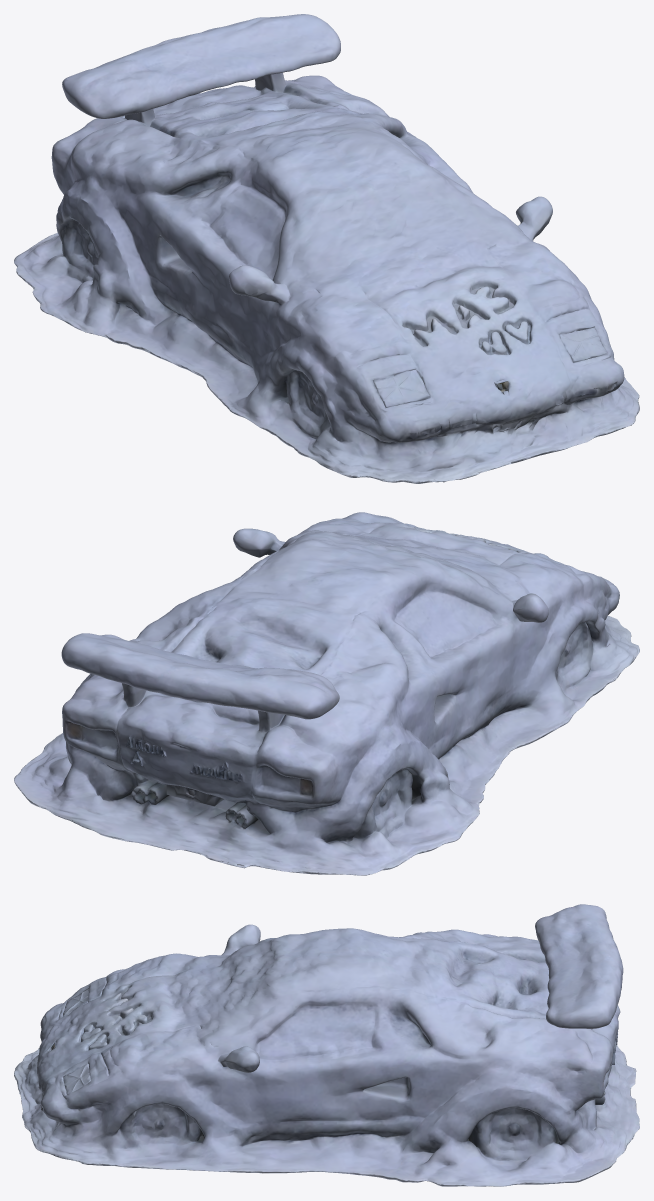
Rendered from LAMBO.glb.
3 views of the same model, one above another, from view 1: azimuth 30°, elevation 25°; view 2: azimuth 150°, elevation 25°; view 3: azimuth 270°, elevation 25° (orthographic). The views are drawn at different scales.
Visible parts, largest first — view 1: tripo_node_34b4ebe9-b4c3-4aff-a36f-0ce32bff07d6; view 2: tripo_node_34b4ebe9-b4c3-4aff-a36f-0ce32bff07d6; view 3: tripo_node_34b4ebe9-b4c3-4aff-a36f-0ce32bff07d6.
Boxes of the visible parts, <box> form: tripo_node_34b4ebe9-b4c3-4aff-a36f-0ce32bff07d6: <box>14,14,639,483</box>; tripo_node_34b4ebe9-b4c3-4aff-a36f-0ce32bff07d6: <box>14,512,639,875</box>; tripo_node_34b4ebe9-b4c3-4aff-a36f-0ce32bff07d6: <box>14,904,639,1186</box>.
Size of the model in its own units: 0.6477 by 0.2617 by 0.9825.
Materials: 1 (1 with a texture image).
